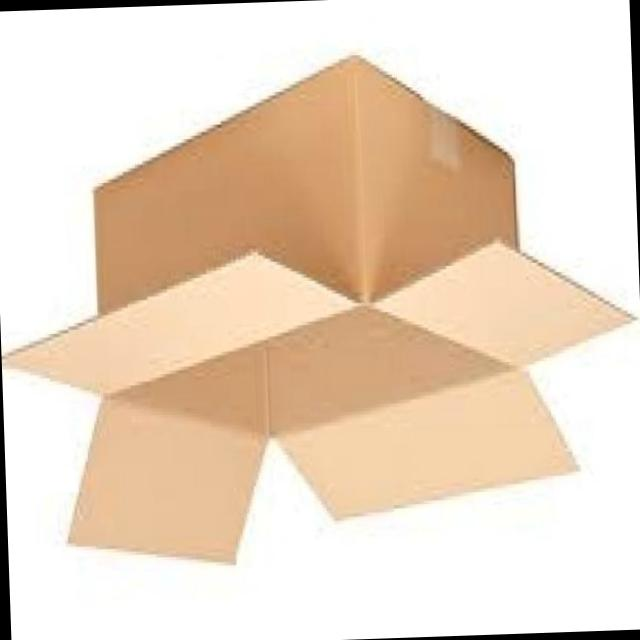cardboard paper: (1, 60, 627, 564)
